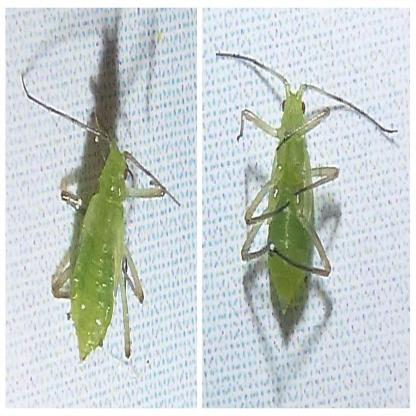aphid: (225, 45, 388, 337), (46, 94, 158, 360)
